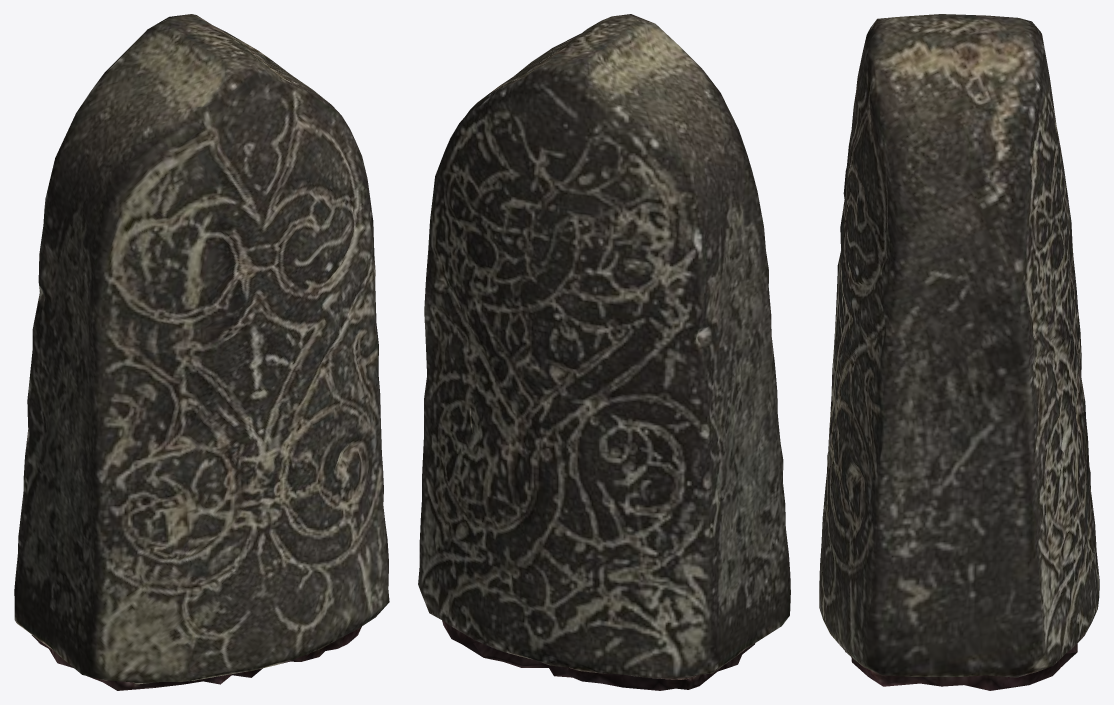
Rendered from lewis_p_b.glb.
3 views of the same model, side by side, from view 1: azimuth 30°, elevation 25°; view 2: azimuth 150°, elevation 25°; view 3: azimuth 270°, elevation 25° (orthographic). The views are drawn at different scales.
Visible parts, largest first — view 1: Pawn BLACK 3_28; view 2: Pawn BLACK 3_28; view 3: Pawn BLACK 3_28.
Boxes of the visible parts, left/top/right/bottom form: Pawn BLACK 3_28: left=14, top=14, right=389, bottom=690; Pawn BLACK 3_28: left=418, top=14, right=790, bottom=690; Pawn BLACK 3_28: left=819, top=14, right=1099, bottom=690.
Size of the model in its own units: 0.0224 by 0.0429 by 0.0179.
1 material, 1 textured.
